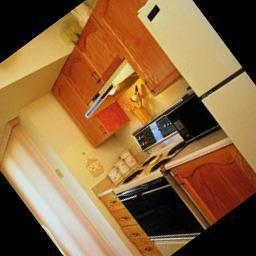Electrodomestico: (127, 0, 256, 185), (118, 164, 207, 256)
